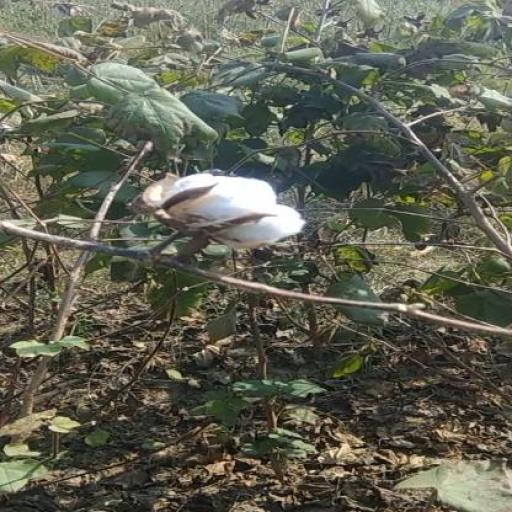cotton_ready: (130, 160, 322, 288)
